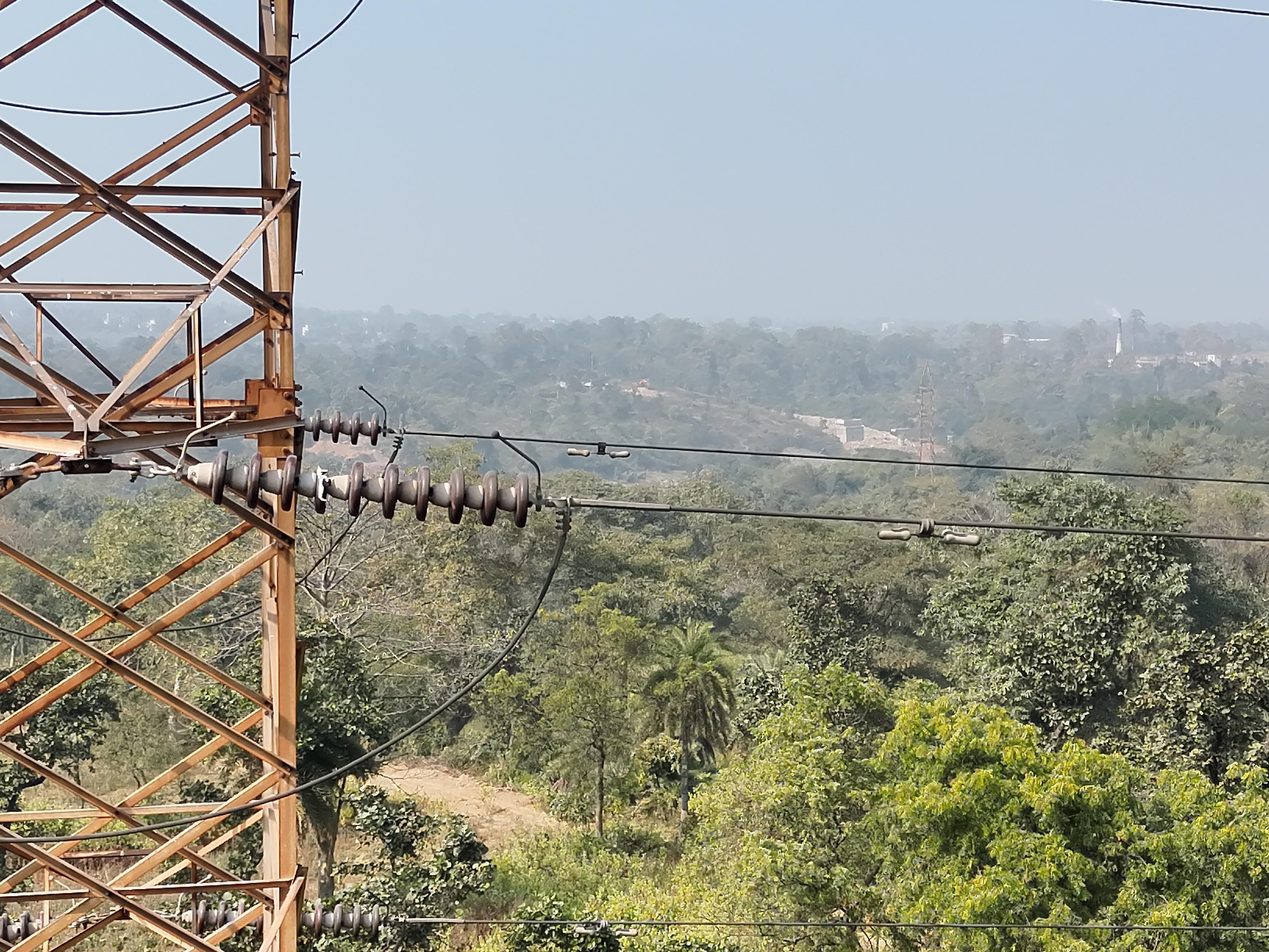broken_insulator: (310, 460, 332, 519)
